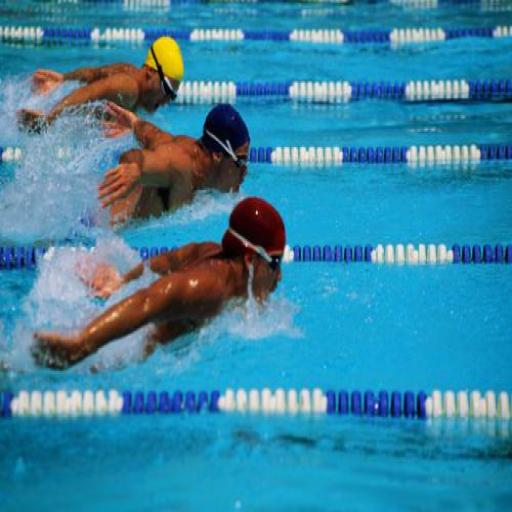swimming: (28, 195, 288, 377), (94, 98, 252, 230), (14, 34, 186, 140)
